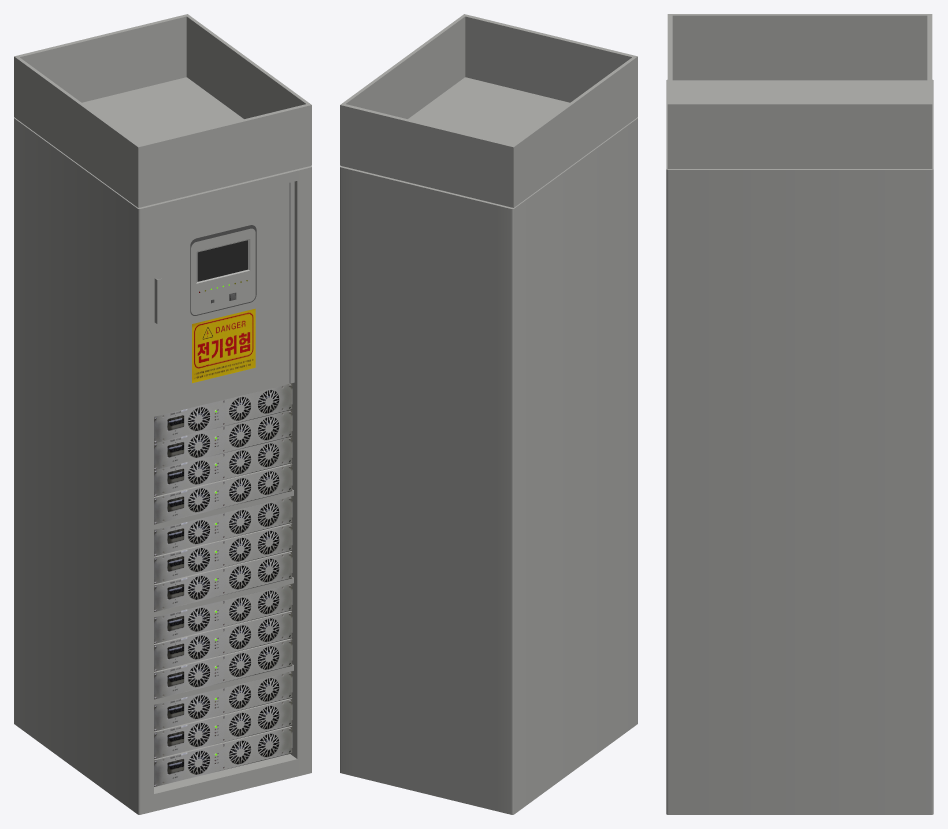
3 views of the same model, side by side, from view 1: azimuth 30°, elevation 25°; view 2: azimuth 150°, elevation 25°; view 3: azimuth 270°, elevation 25° (orthographic). The views are drawn at different scales.
Visible parts, largest first — view 1: LDPS-1800M002; view 2: LDPS-1800M002; view 3: LDPS-1800M002.
Part boxes in pixels (<box>): LDPS-1800M002: <box>14,14,311,814</box>; LDPS-1800M002: <box>340,14,637,814</box>; LDPS-1800M002: <box>666,14,933,814</box>.
Bounding box in the file's own units: 0.6 × 2.2 × 0.75.
8 materials, 2 textured.
